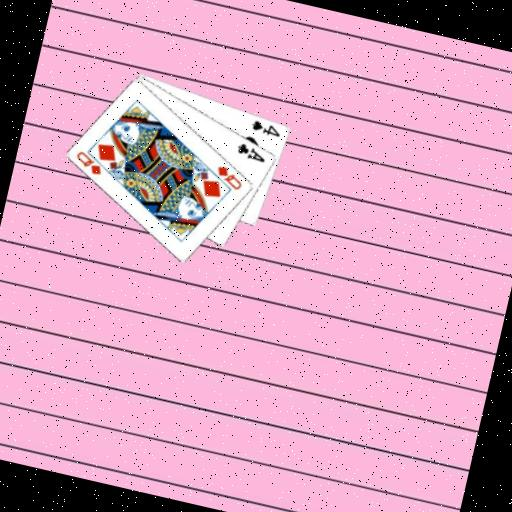4S: (248, 116, 285, 140)
AC: (233, 139, 270, 165)
QD: (71, 147, 108, 178), (211, 162, 247, 192)
